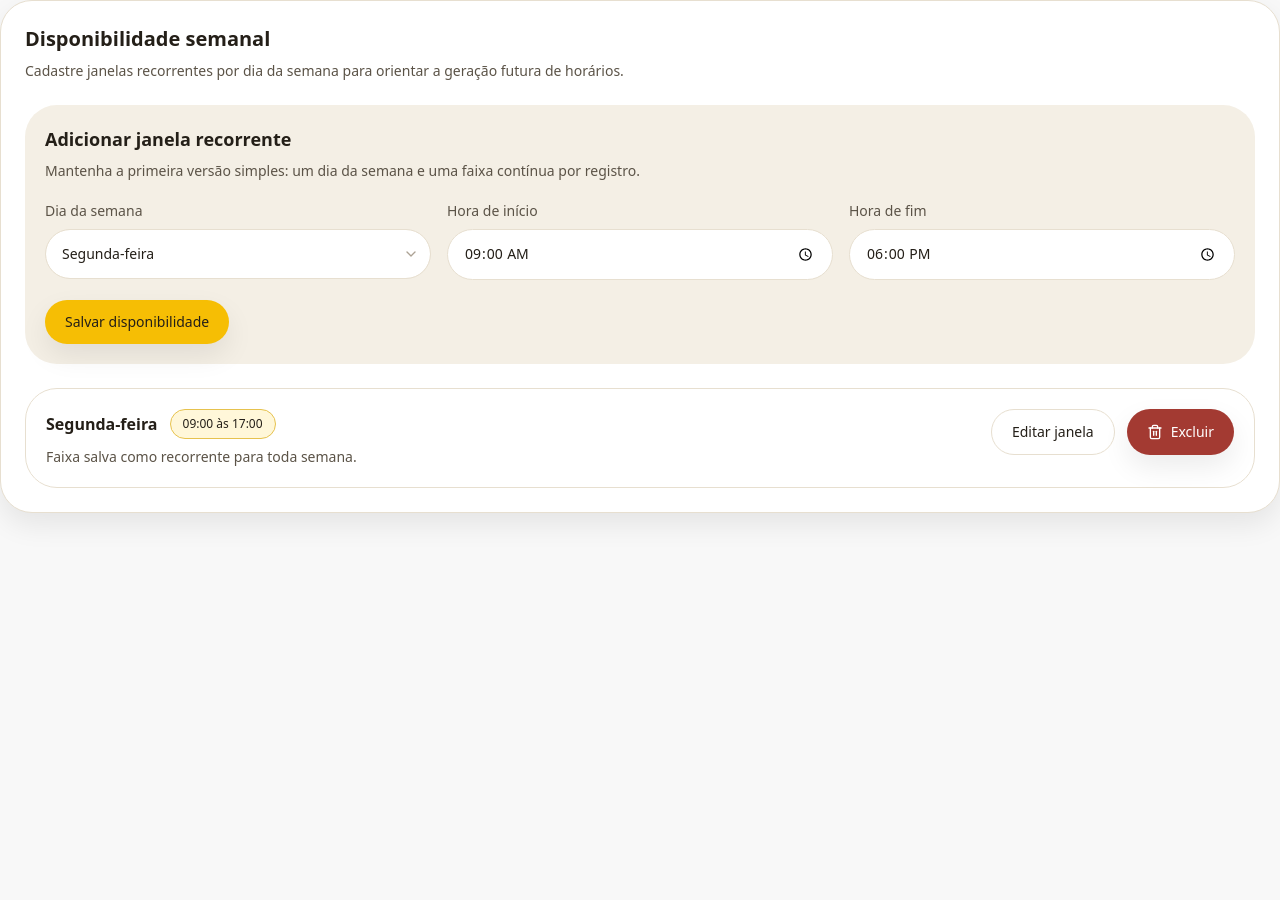
ProfessionalAvailabilityManager › updates an existing weekly window
Step 1. Click the button "Editar janela" → click(1053, 432), box [991, 409, 1115, 455]
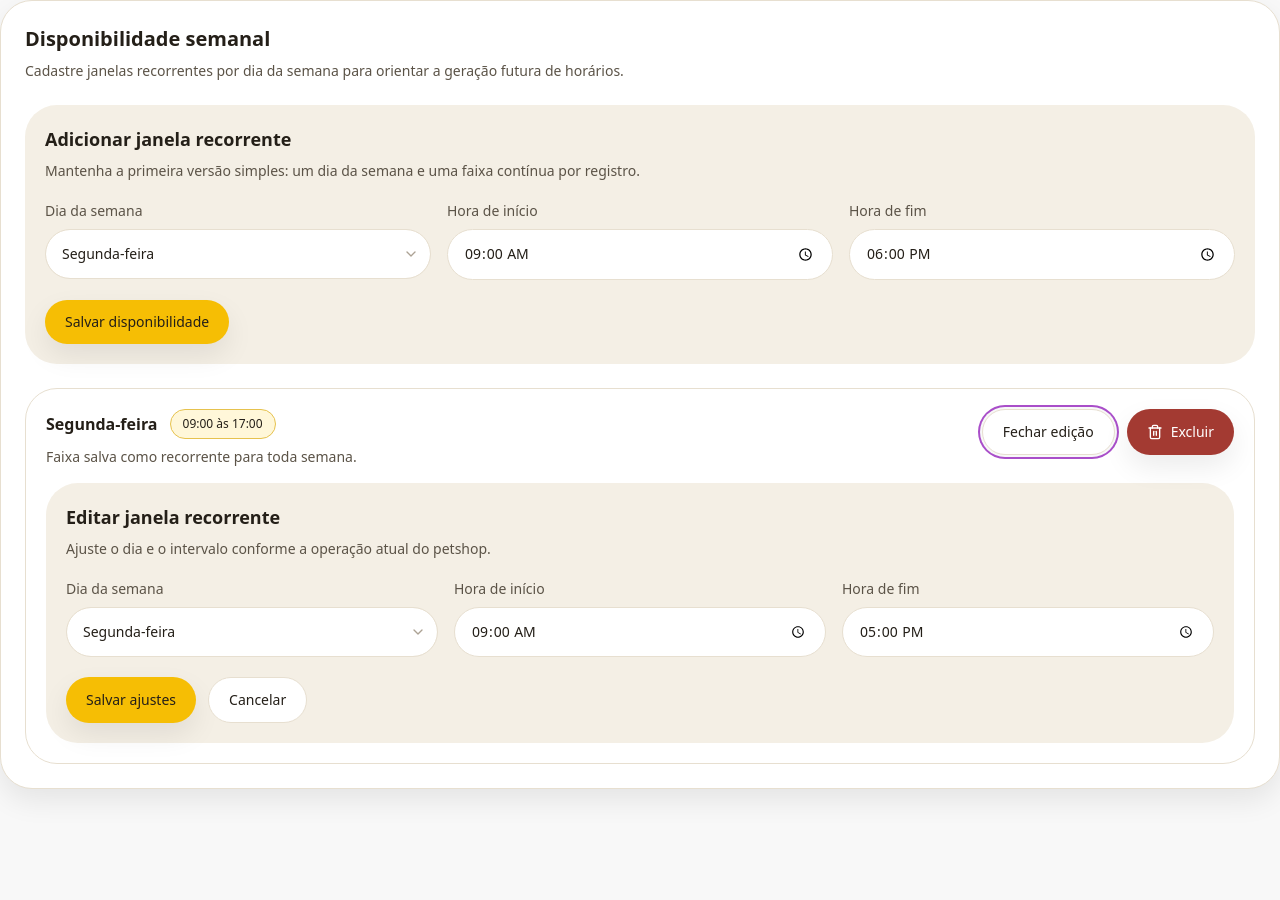
Step 2. Replace the text in the time field showing "Hora de início" below "Editar janela recorrente" with "10:00" → (640, 632), box [454, 607, 826, 657]
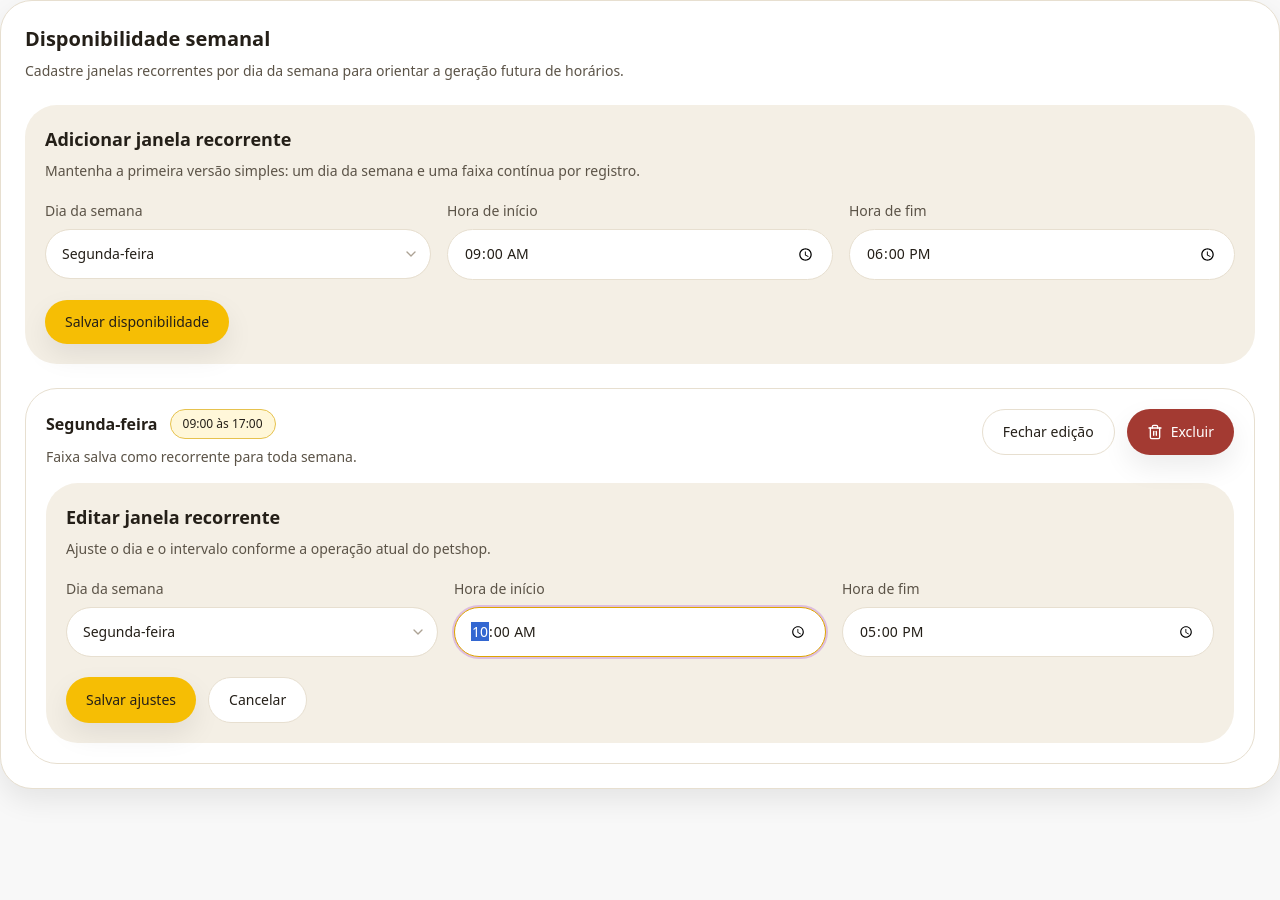
Step 3. Replace the text in the 2nd time field showing "Hora de fim" with "18:00" → (1028, 632), box [842, 607, 1214, 657]
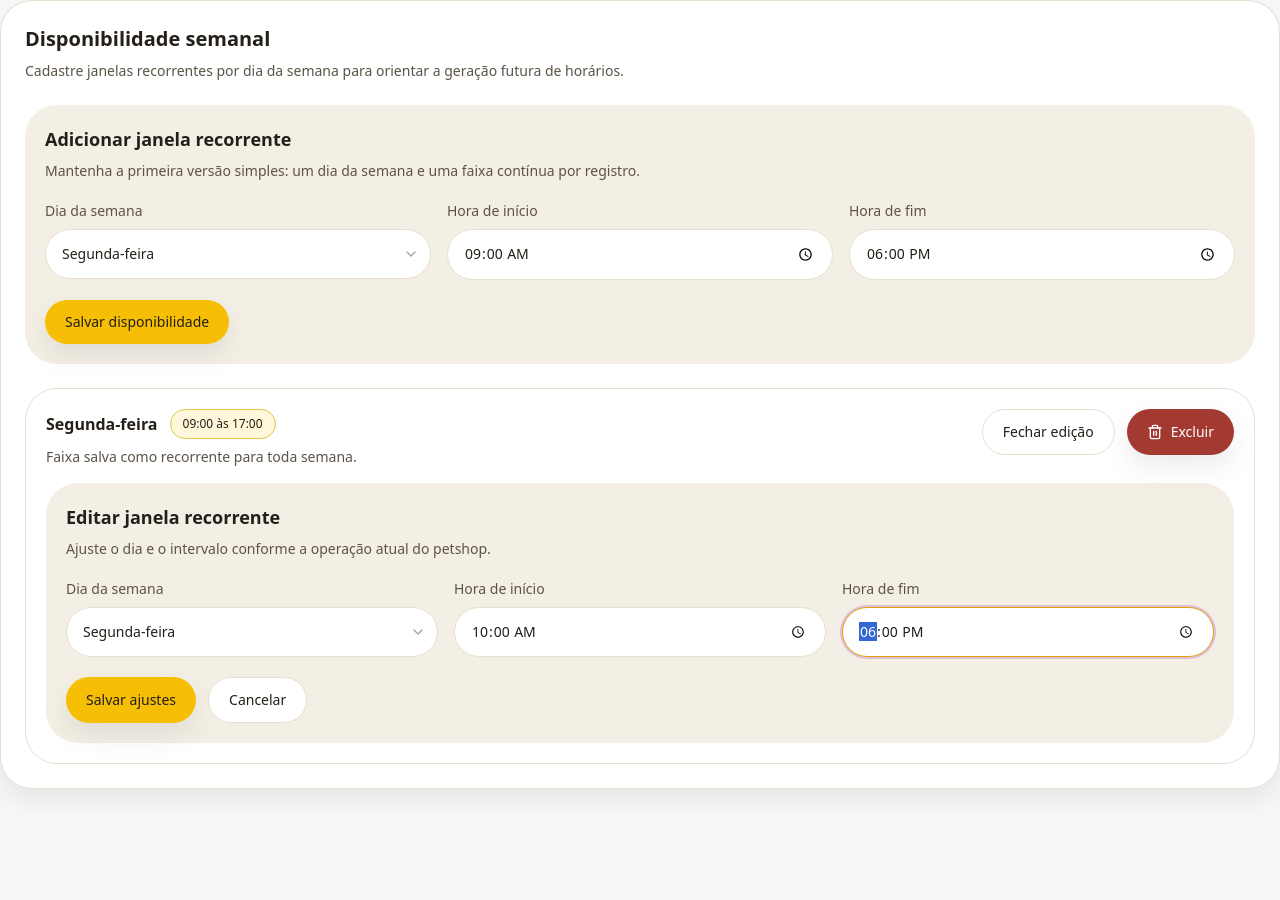
Step 4. Click the button "Salvar ajustes" → click(131, 700), box [66, 677, 196, 723]
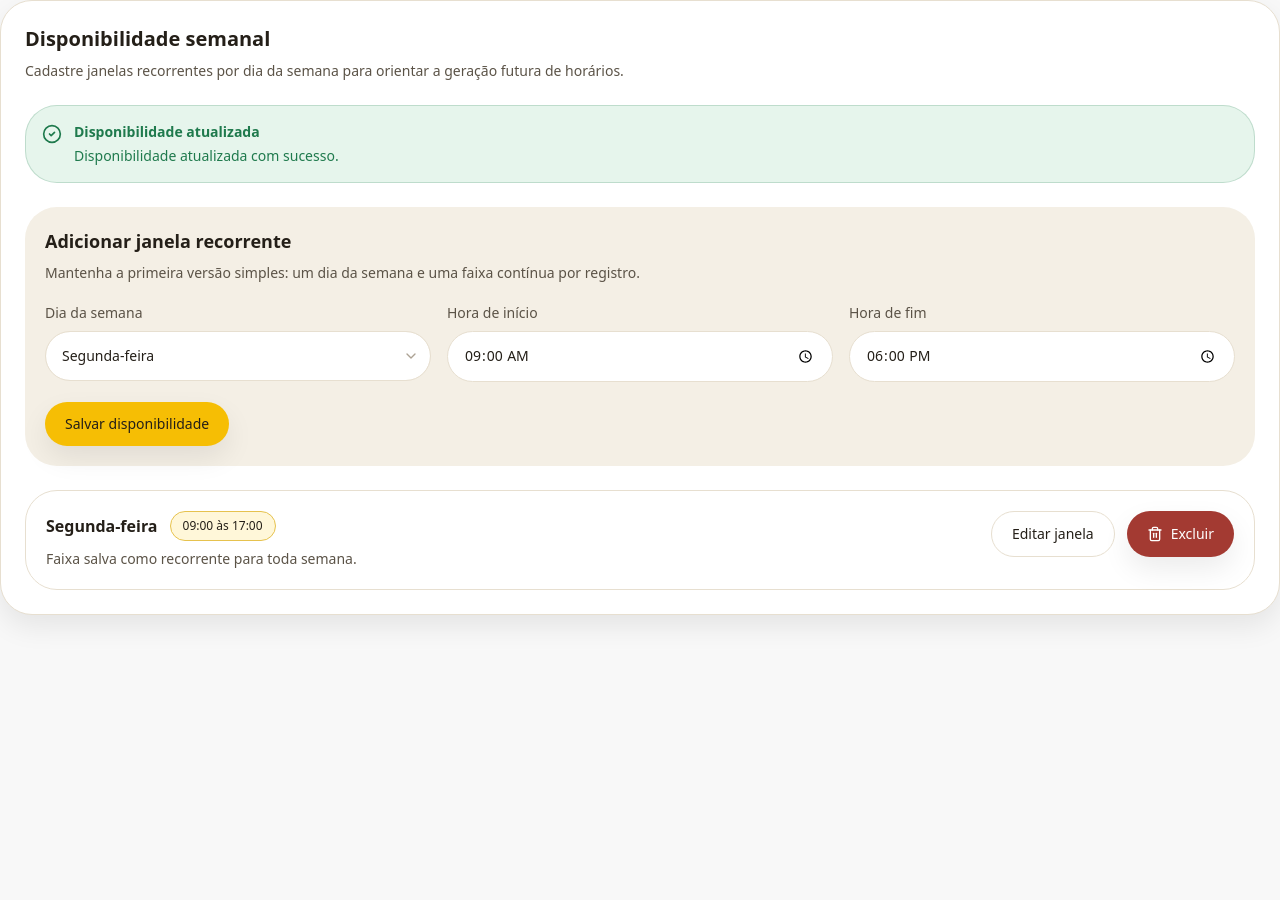
Now the text "Disponibilidade atualizada com sucesso." is shown, box [74, 146, 339, 166]
